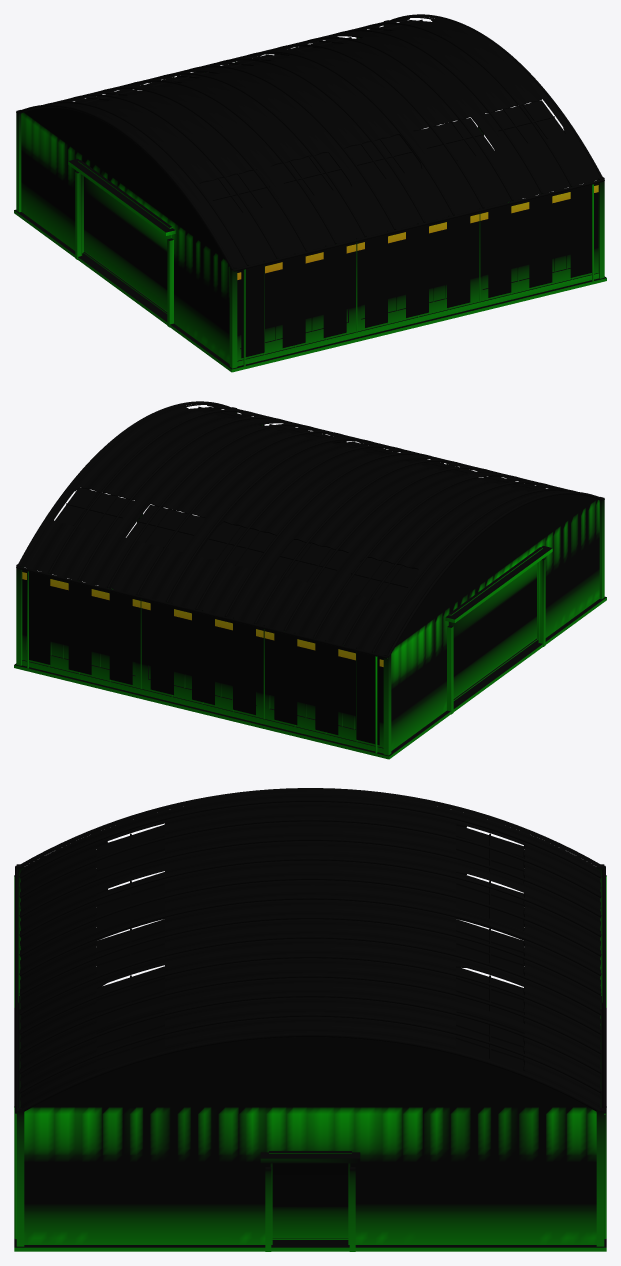
File: hangar.glb
The picture shows the model from 3 angles, top to bottom: view 1: azimuth 30°, elevation 25°; view 2: azimuth 150°, elevation 25°; view 3: azimuth 270°, elevation 25°; orthographic projection. The views are drawn at different scales.
Visible parts, largest first — view 1: lod0; view 2: lod0; view 3: lod0.
Part boxes in pixels (x1,y1,x2,y2): lod0: [14, 14, 606, 372]; lod0: [14, 401, 606, 759]; lod0: [14, 788, 606, 1251].
Size of what is drawn, in the model's own units: 40.2 by 15.82 by 39.26.
